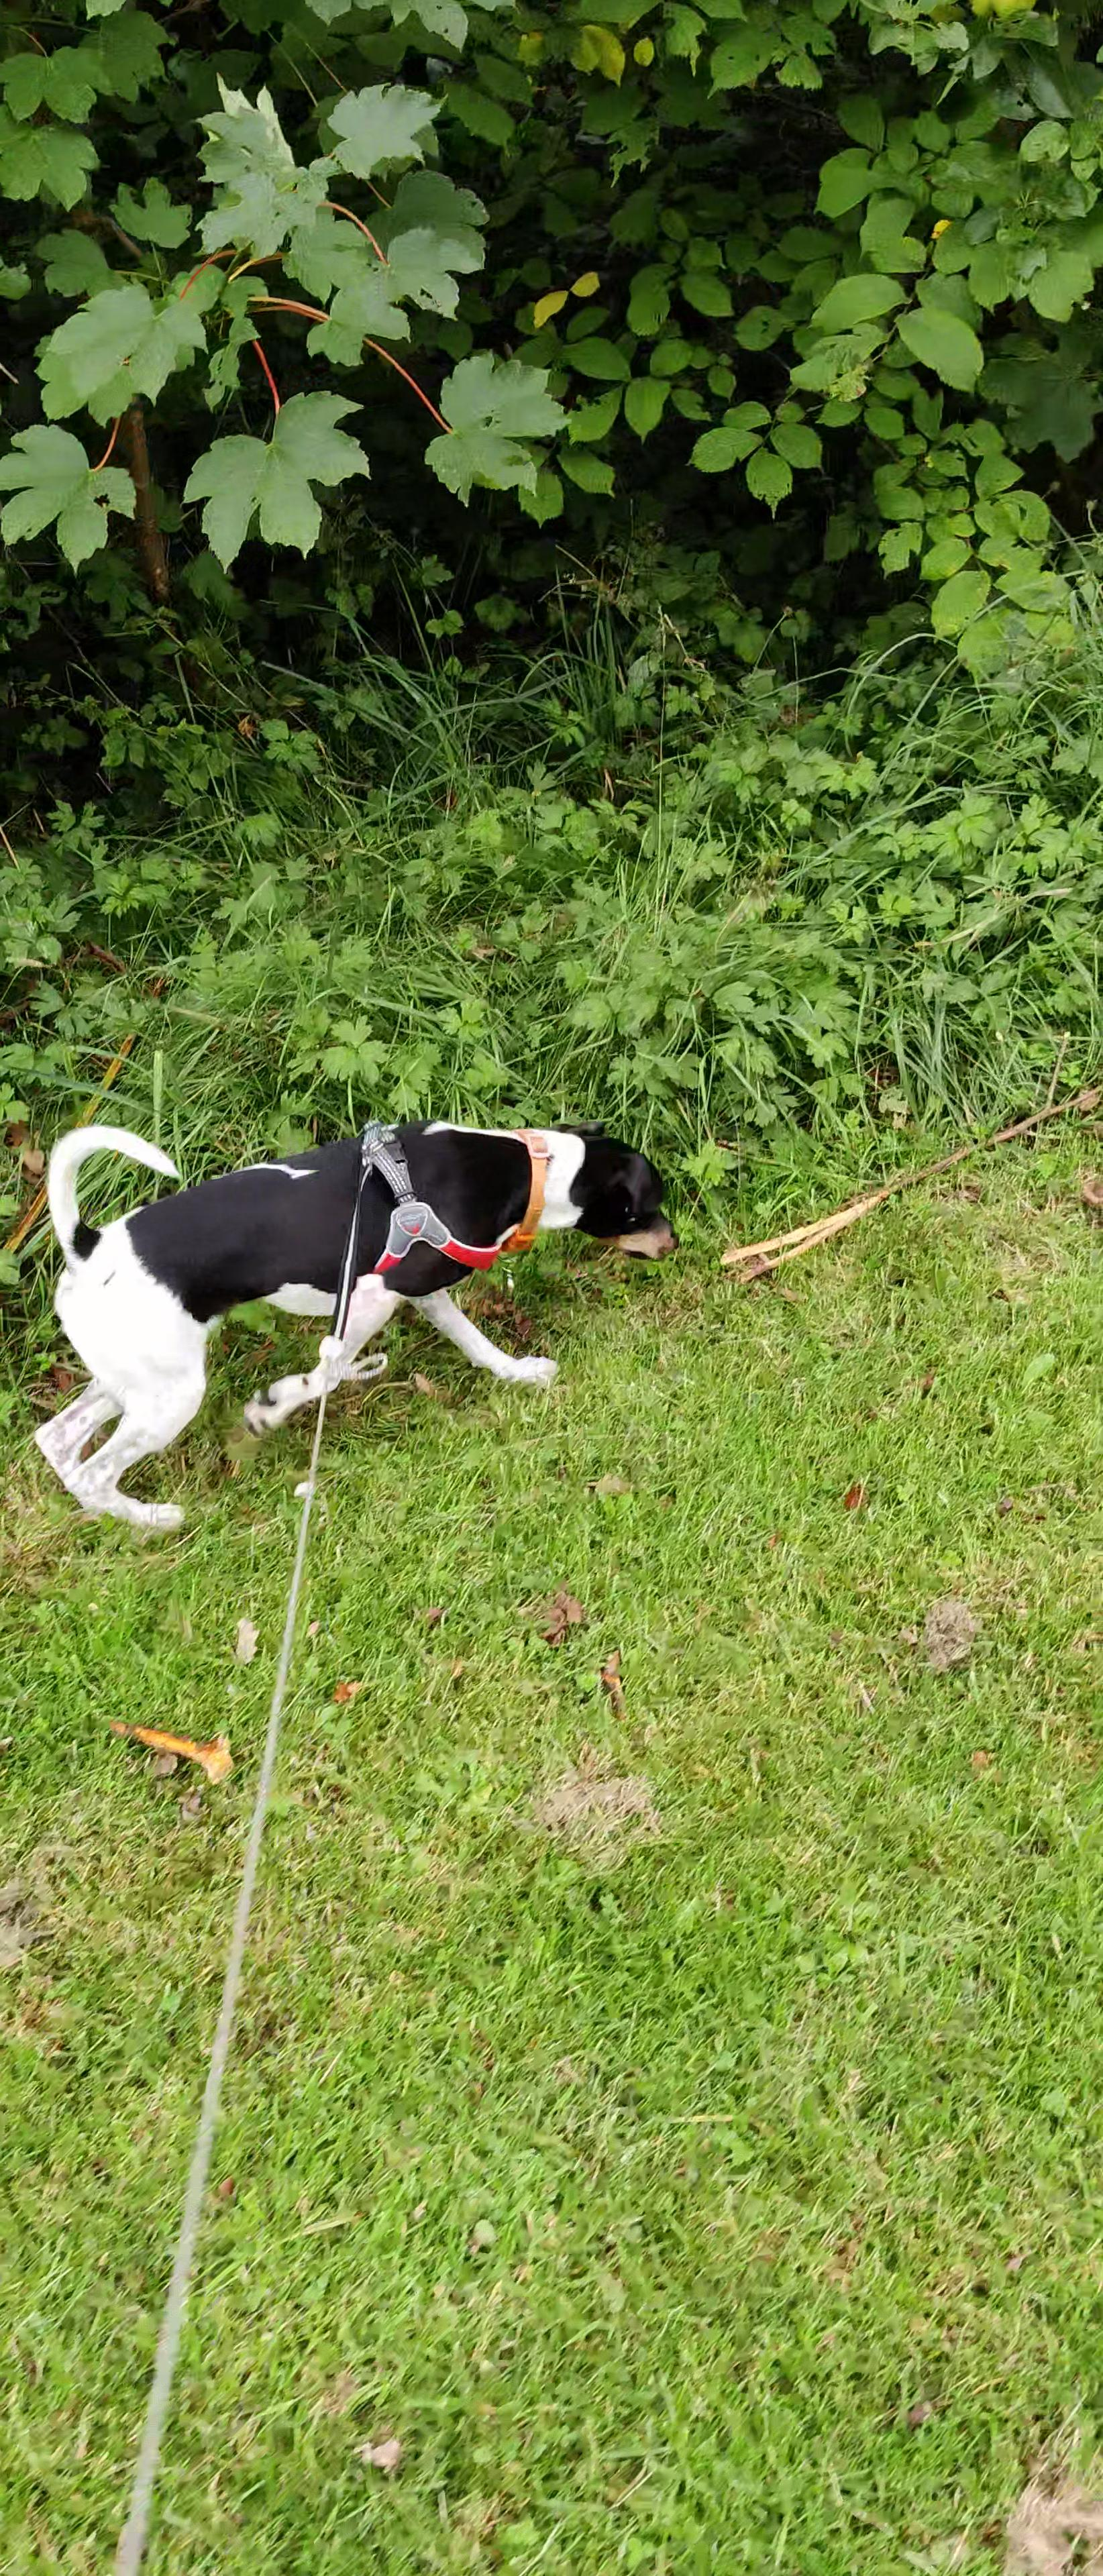Dog: (31, 1109, 687, 1534)
